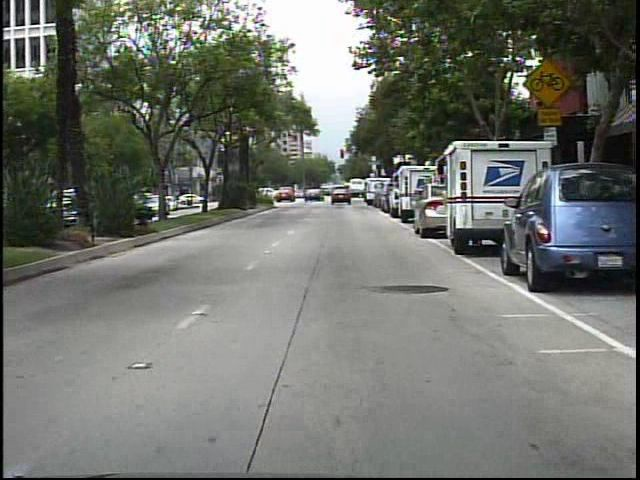person: (345, 183, 359, 203)
